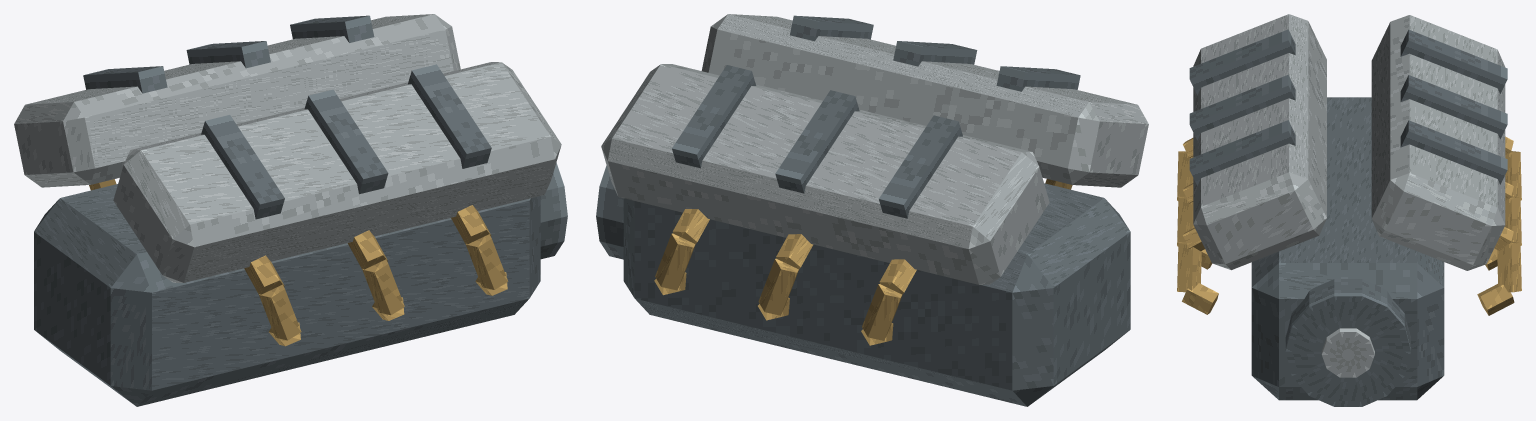
File: v6_combustion.glb
3 renders of one model, left to right at view 1: azimuth 30°, elevation 25°; view 2: azimuth 150°, elevation 25°; view 3: azimuth 270°, elevation 25°, orthographic. The views are drawn at different scales.
Parts seen in each view (by area): view 1: block_valve cover (×2), block_ribbed cast engine housing, block_cast cover rib (×6), block_bank exhaust branch 1 (×3), block_bank exhaust branch 0 (×3), block_crank pulley; view 2: block_valve cover (×2), block_ribbed cast engine housing, block_cast cover rib (×6), block_bank exhaust branch 1 (×3), block_bank exhaust branch 0 (×3), block_crank pulley; view 3: block_valve cover (×2), block_ribbed cast engine housing, block_cast cover rib (×6), block_crank pulley, block_bank exhaust branch 1 (×6), block_pulley hub, block_bank exhaust branch 2 (×2).
Part boxes in pixels (x1,y1,x2,y2): block_valve cover (×2): [14, 14, 561, 282]; block_ribbed cast engine housing: [34, 184, 540, 406]; block_cast cover rib (×6): [83, 15, 491, 219]; block_bank exhaust branch 1 (×3): [259, 234, 508, 340]; block_bank exhaust branch 0 (×3): [244, 205, 491, 294]; block_crank pulley: [540, 162, 567, 259]; block_valve cover (×2): [601, 14, 1148, 284]; block_ribbed cast engine housing: [623, 183, 1130, 406]; block_cast cover rib (×6): [672, 15, 1080, 218]; block_bank exhaust branch 1 (×3): [655, 233, 902, 340]; block_bank exhaust branch 0 (×3): [672, 209, 916, 294]; block_crank pulley: [596, 165, 623, 259]; block_valve cover (×2): [1193, 14, 1505, 270]; block_ribbed cast engine housing: [1251, 97, 1444, 400]; block_cast cover rib (×6): [1189, 29, 1507, 185]; block_crank pulley: [1285, 279, 1410, 406]; block_bank exhaust branch 1 (×6): [1177, 151, 1521, 292]; block_pulley hub: [1321, 328, 1374, 377]; block_bank exhaust branch 2 (×2): [1182, 283, 1514, 315].
Size of the model in its own units: 1.1 by 0.5915 by 0.7782.
1 material, 1 textured.
